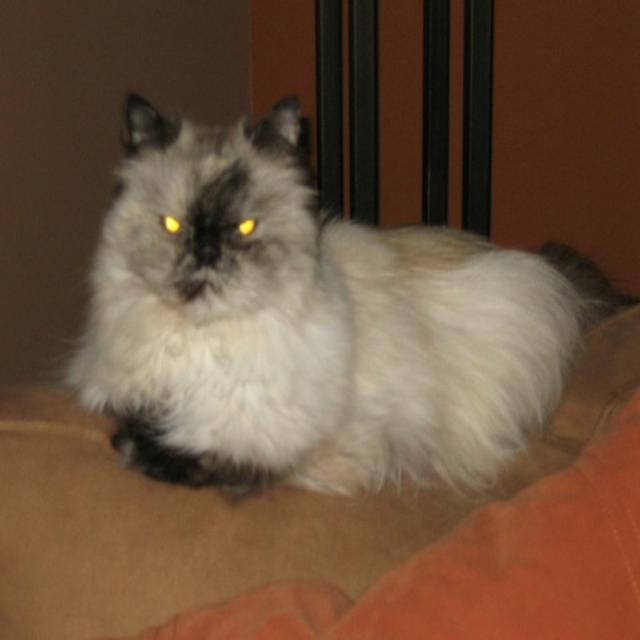Cat: (32, 87, 639, 508)
